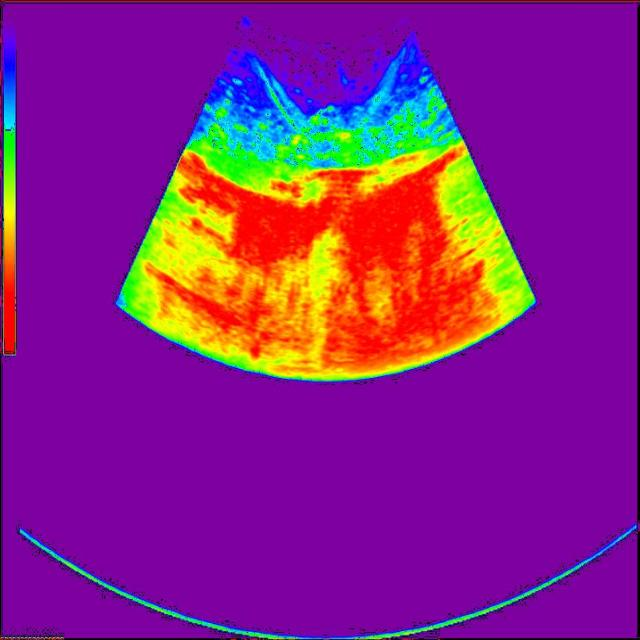lamb liver pre: (278, 107, 368, 171)
